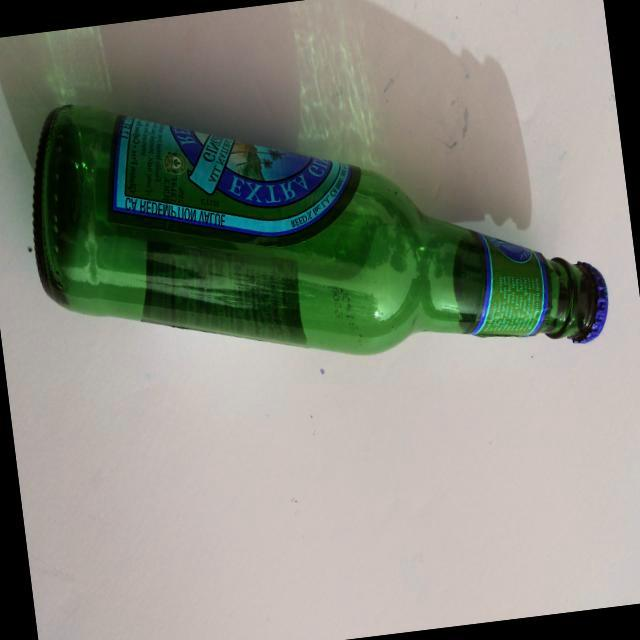glass: (11, 38, 616, 409)
